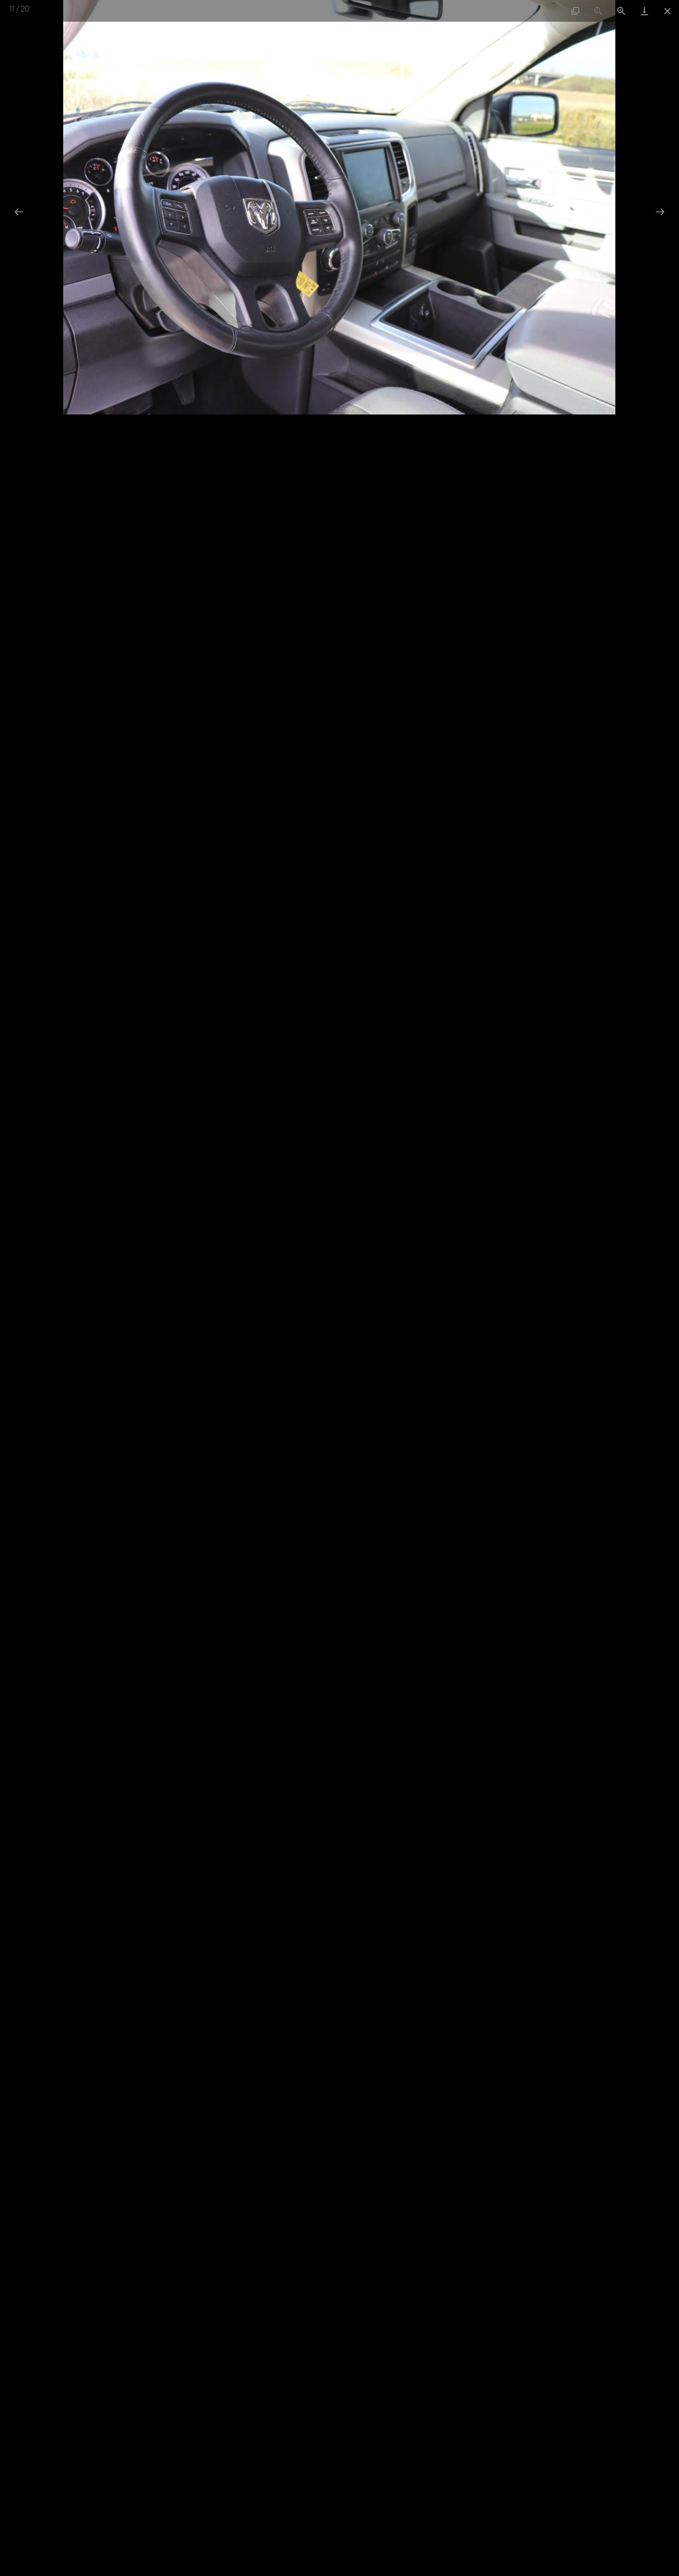car: (656, 209, 664, 217)
